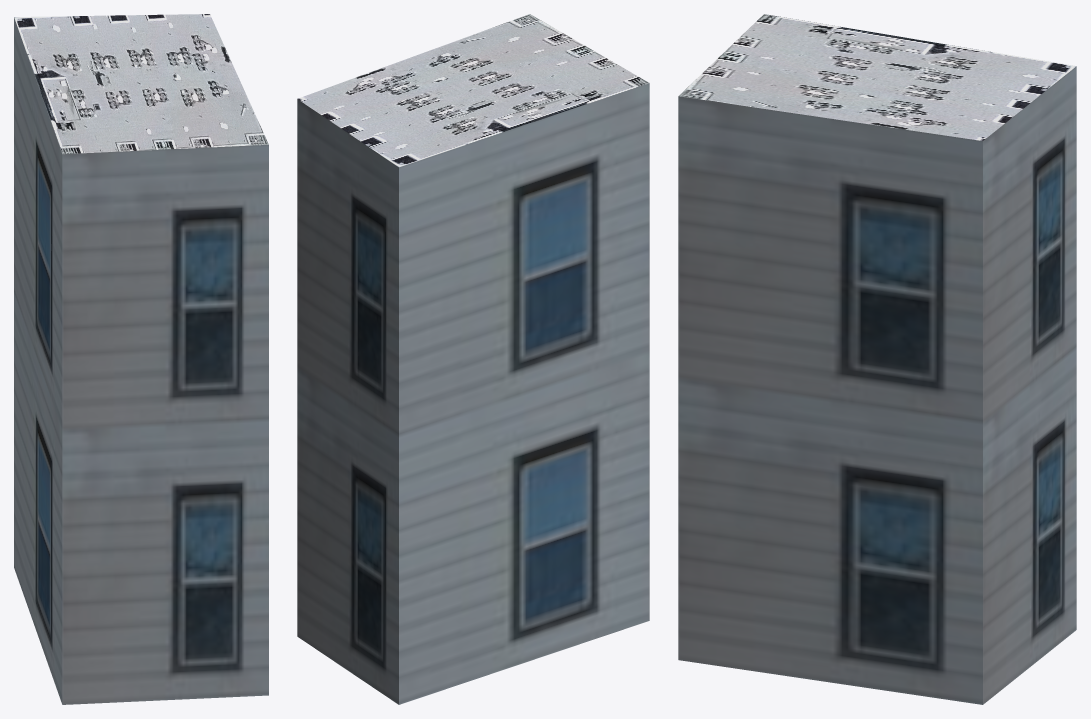
Rendered from ResTex__647.fbx.
The picture shows the model from 3 angles, left to right: view 1: azimuth 30°, elevation 25°; view 2: azimuth 150°, elevation 25°; view 3: azimuth 270°, elevation 25°; orthographic projection. The views are drawn at different scales.
Visible parts, largest first — view 1: CityEngineMaterial_18_m, CityEngineMaterial_4_m; view 2: CityEngineMaterial_18_m, CityEngineMaterial_4_m; view 3: CityEngineMaterial_18_m, CityEngineMaterial_4_m.
Part boxes in pixels (x1=…): CityEngineMaterial_18_m: x1=14, y1=17, x2=268, y2=704; CityEngineMaterial_4_m: x1=14, y1=14, x2=268, y2=154; CityEngineMaterial_18_m: x1=297, y1=83, x2=649, y2=704; CityEngineMaterial_4_m: x1=297, y1=14, x2=649, y2=167; CityEngineMaterial_18_m: x1=678, y1=66, x2=1076, y2=704; CityEngineMaterial_4_m: x1=678, y1=14, x2=1076, y2=140.
Bounding box in the file's own units: 2.9 × 6 × 3.84.
2 materials, 2 textured.
